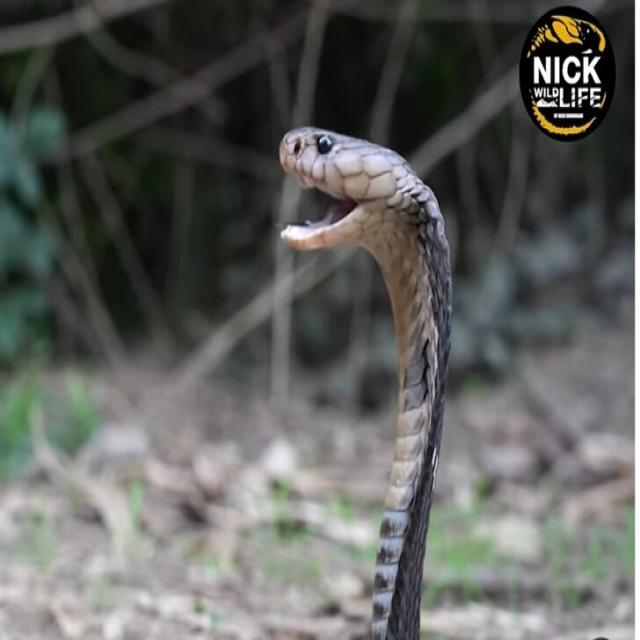Venomous: (262, 109, 463, 326)
